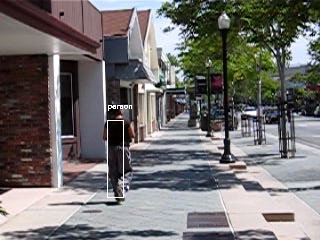person: (105, 103, 137, 206), (104, 103, 136, 206), (106, 103, 138, 206), (105, 102, 137, 205), (105, 104, 137, 207)
target_negative: (153, 143, 249, 190), (229, 172, 319, 180), (312, 66, 318, 171), (202, 213, 227, 237), (312, 96, 317, 113)
